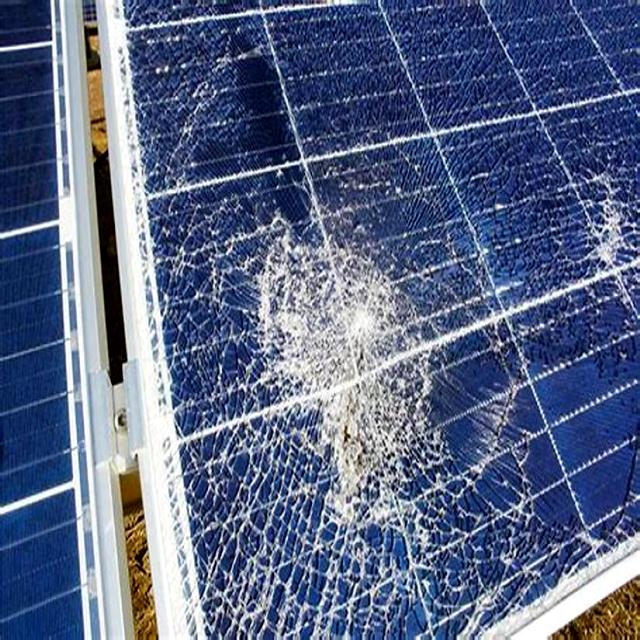hotspot: (229, 218, 442, 487), (212, 534, 412, 640), (438, 468, 553, 622), (570, 152, 640, 338), (216, 500, 410, 532)
